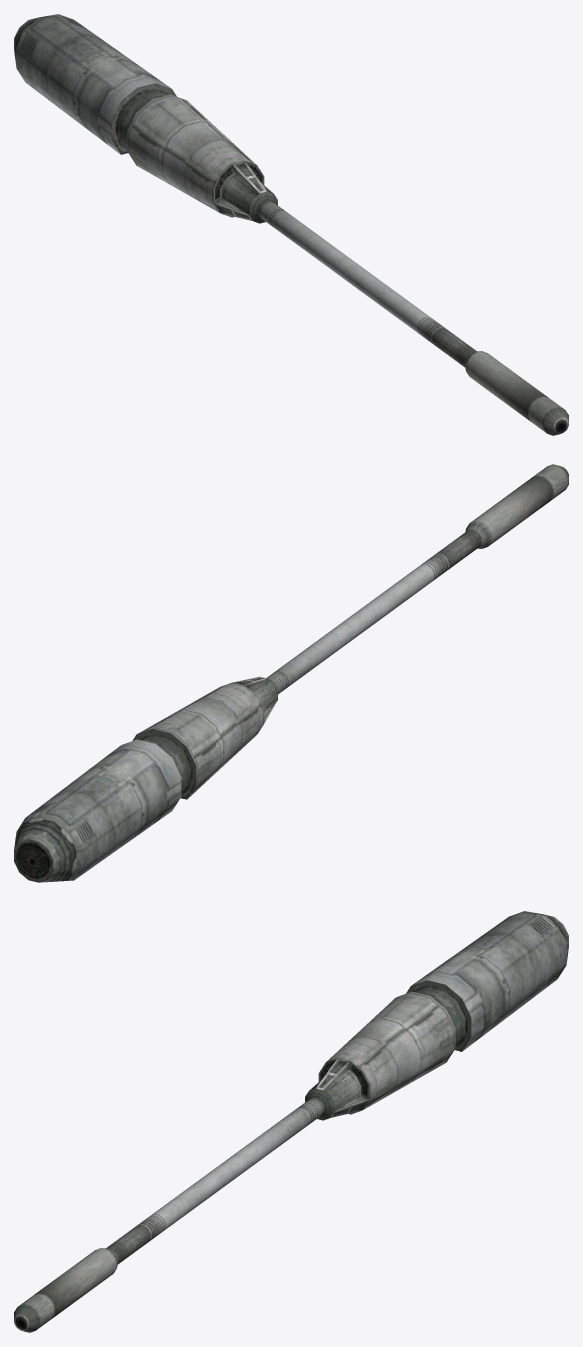
File: xwing_weapon2_pos_s05_l0.fbx
The picture shows the model from 3 angles, top to bottom: view 1: azimuth 30°, elevation 25°; view 2: azimuth 150°, elevation 25°; view 3: azimuth 330°, elevation 25°; orthographic projection.
Parts seen in each view (by area): view 1: mesh_node; view 2: mesh_node; view 3: mesh_node.
Boxes of the visible parts, left/top/right/bottom form: mesh_node: left=14, top=14, right=568, bottom=435; mesh_node: left=14, top=464, right=568, bottom=882; mesh_node: left=14, top=911, right=568, bottom=1332.
Size of the model in its own units: 0.316 by 0.2737 by 4.14.
1 material, 1 textured.
